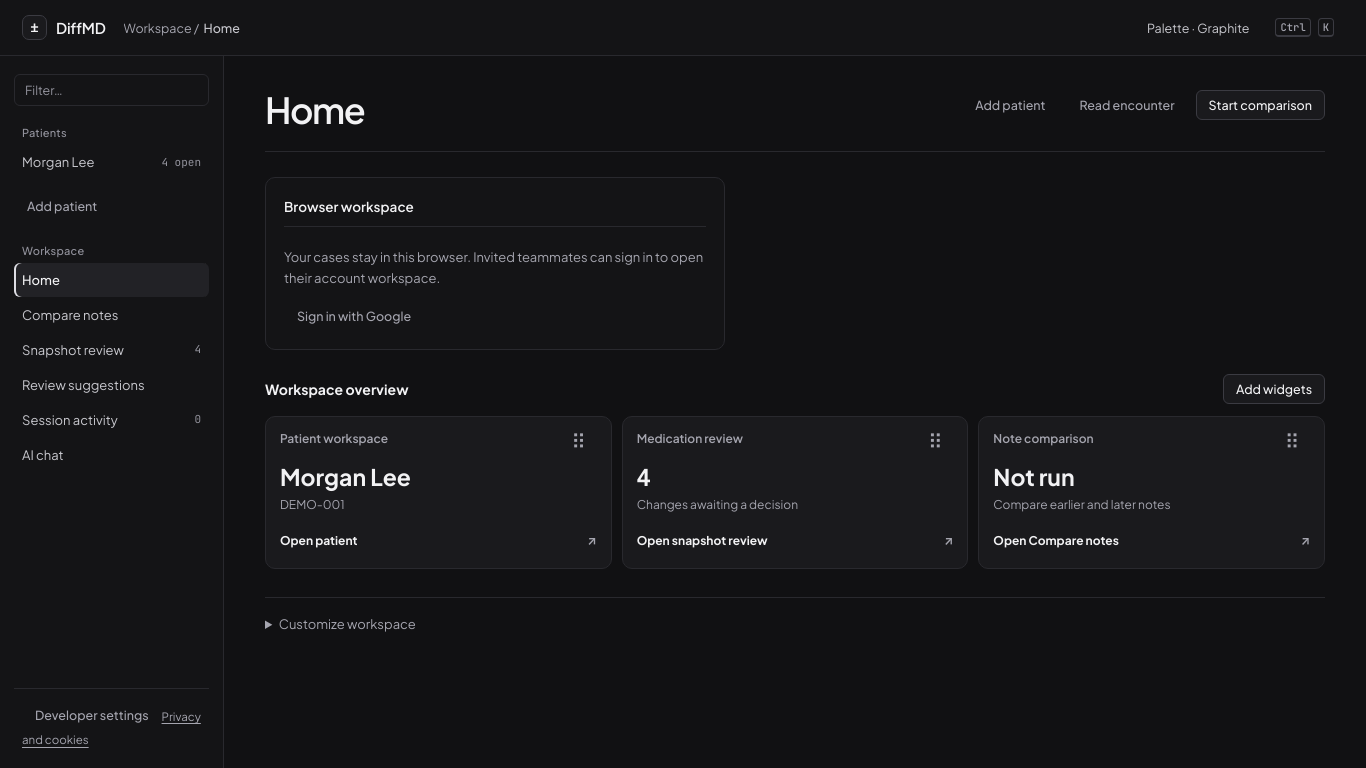
Clinical Diff Veritas Editorial UI › renders exact assistant evidence and clears it on abstention or unverified output
Click the button "Morgan Lee 4 open": [112, 163] box x1=14 y1=146 x2=209 y2=180
(page scrolled)
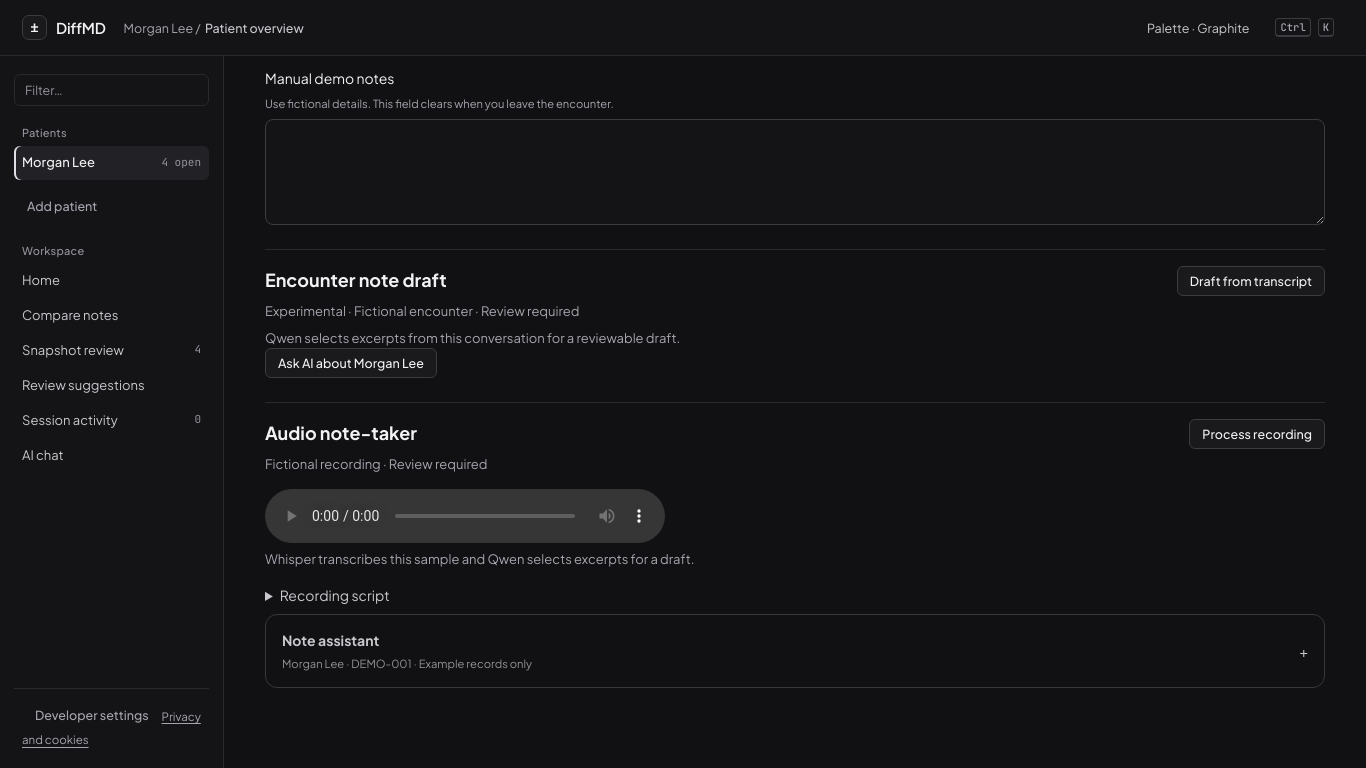
Click the button "Note assistant": [331, 640] box x1=266 y1=615 x2=1324 y2=686
(page scrolled)
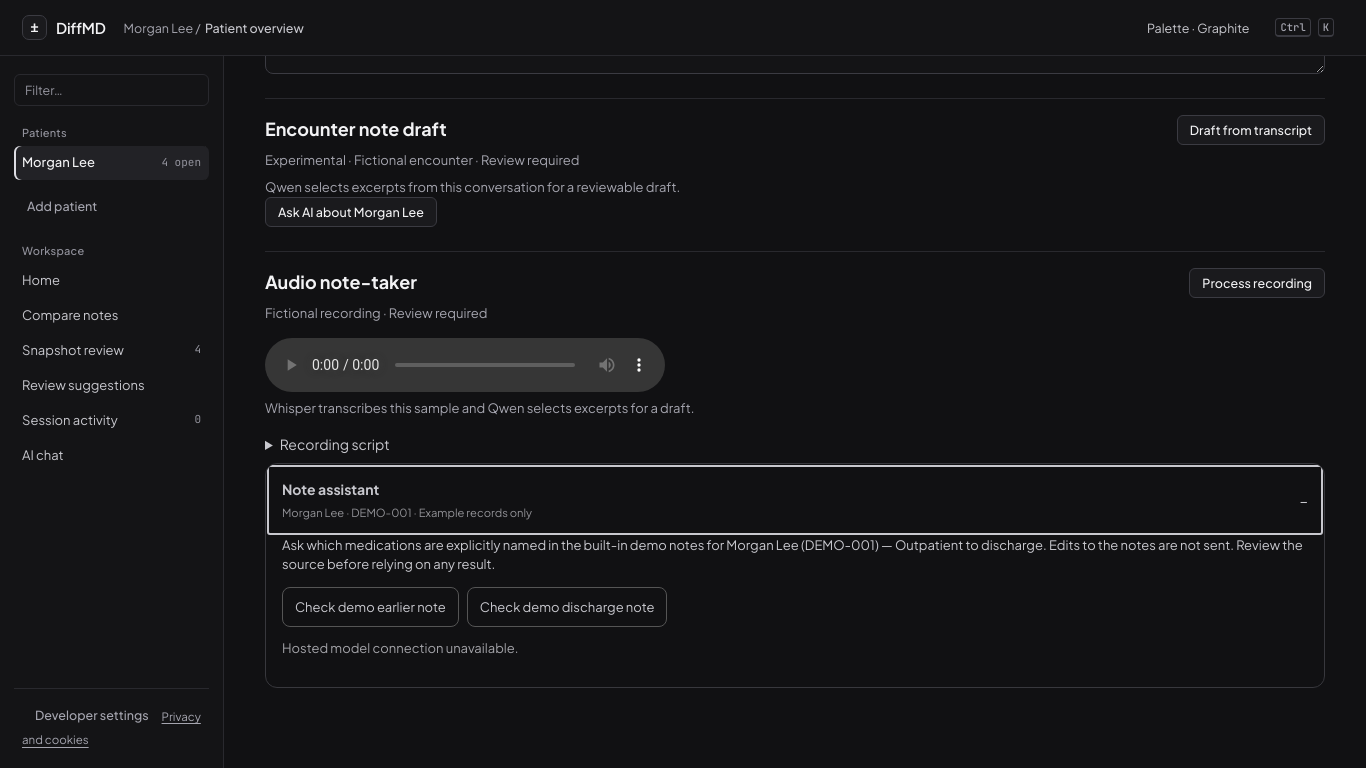
Click the button "Check demo earlier note": [370, 607] box x1=282 y1=586 x2=459 y2=627
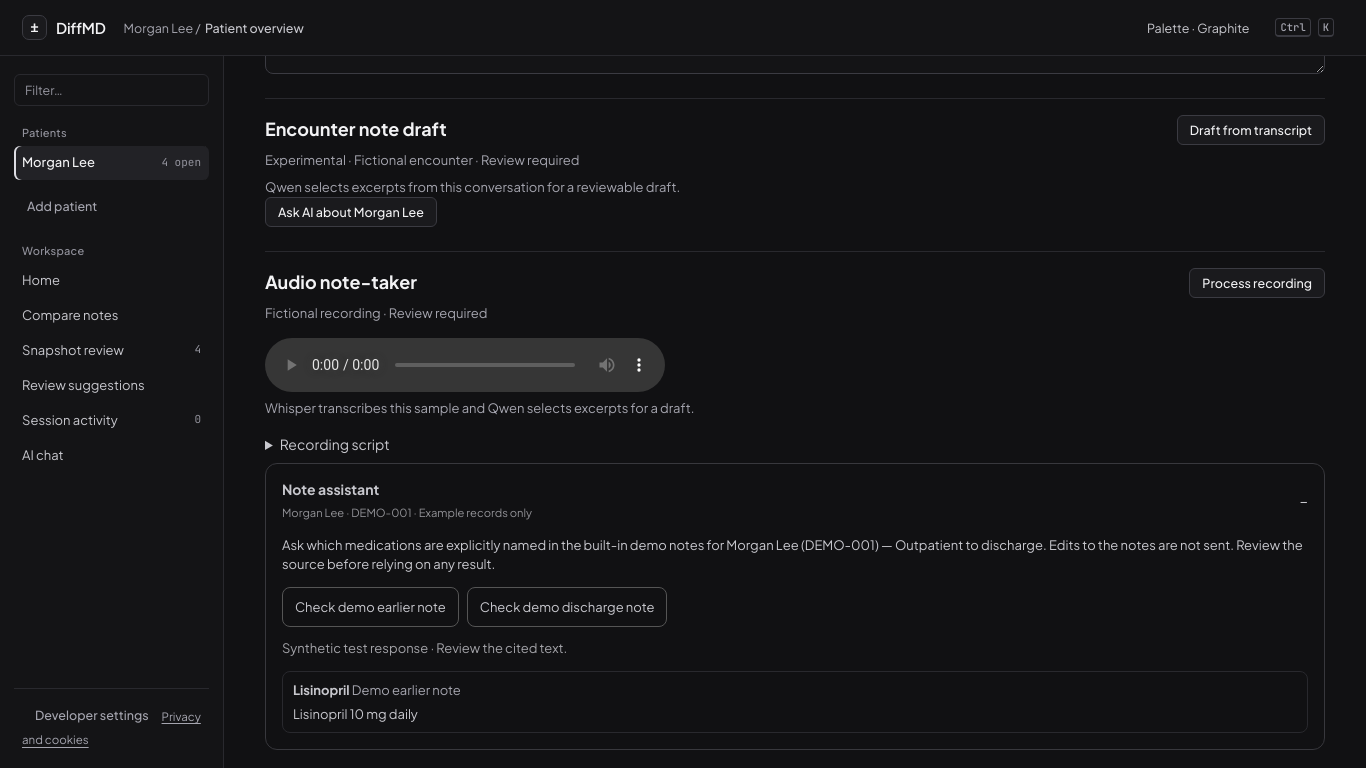
Check: the list named "Medication evidence" shows "Demo earlier note", box x1=352 y1=682 x2=461 y2=698
Check: the text "Lisinopril 10 mg daily" is shown, box x1=293 y1=706 x2=418 y2=722
Check: the message "Synthetic test response · Review the cited text." is shown, box x1=282 y1=640 x2=567 y2=656
Click the button "Check demo discharge note": [567, 607] box x1=467 y1=586 x2=668 y2=627
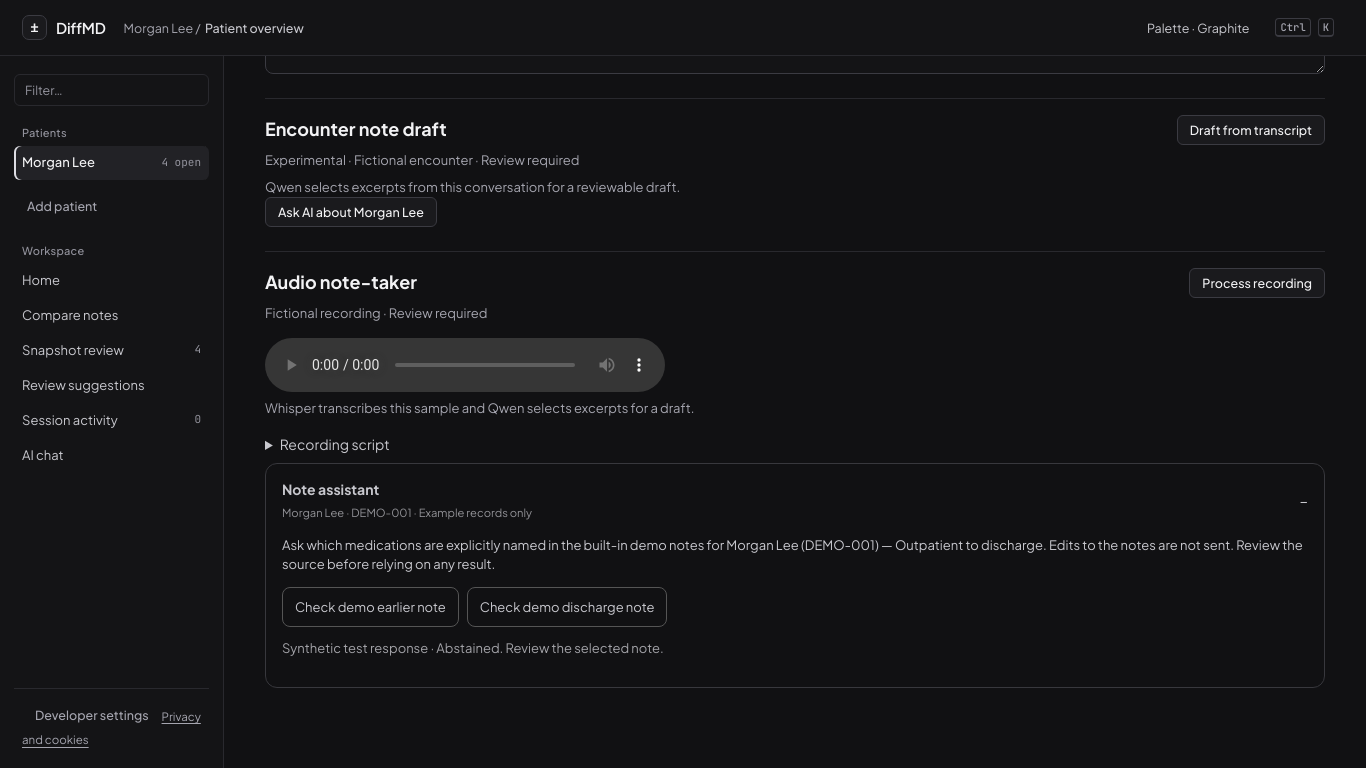
Check: the message "Synthetic test response · Abstained. Review the selected note." is shown, box x1=282 y1=640 x2=664 y2=656
Check: the list is gone
Click the button "Check demo earlier note": [370, 607] box x1=282 y1=586 x2=459 y2=627
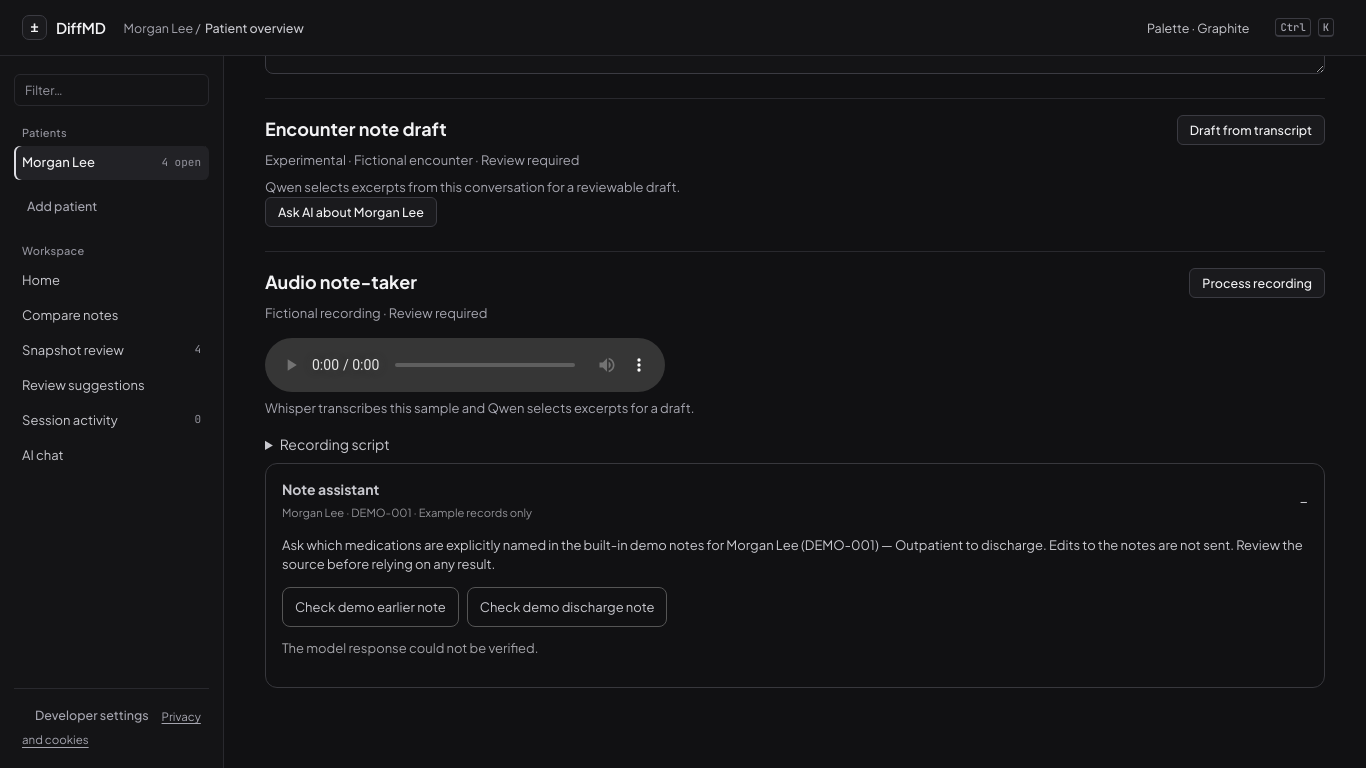
Check: the message "The model response could not be verified." is shown, box x1=282 y1=640 x2=538 y2=656
